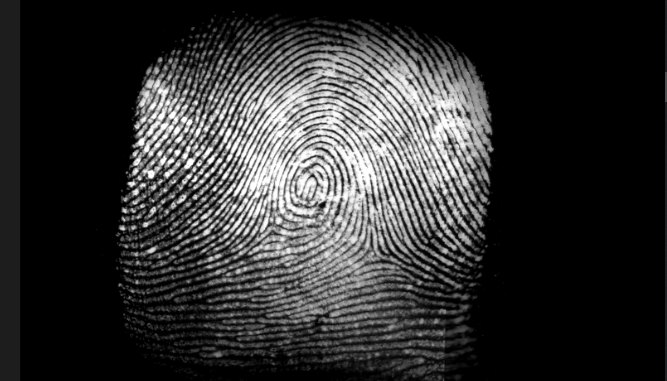deltas: (348, 222, 398, 273), (254, 207, 290, 247)
nucleo: (281, 159, 341, 216)
